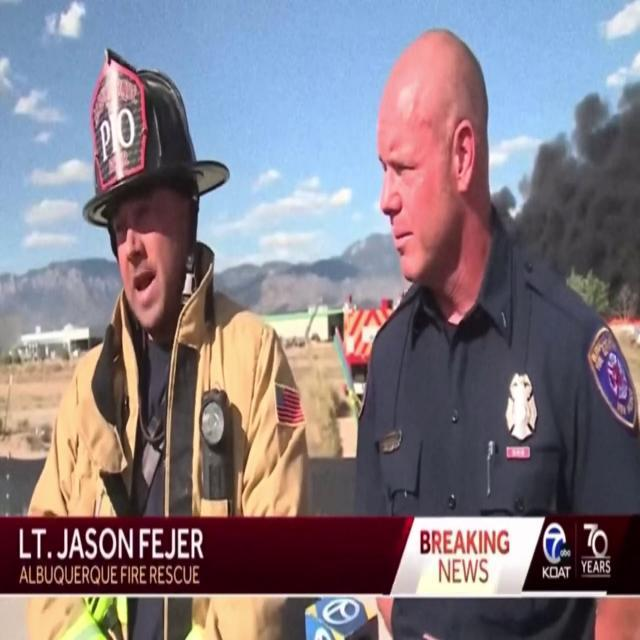Smoke: (508, 44, 640, 300)
